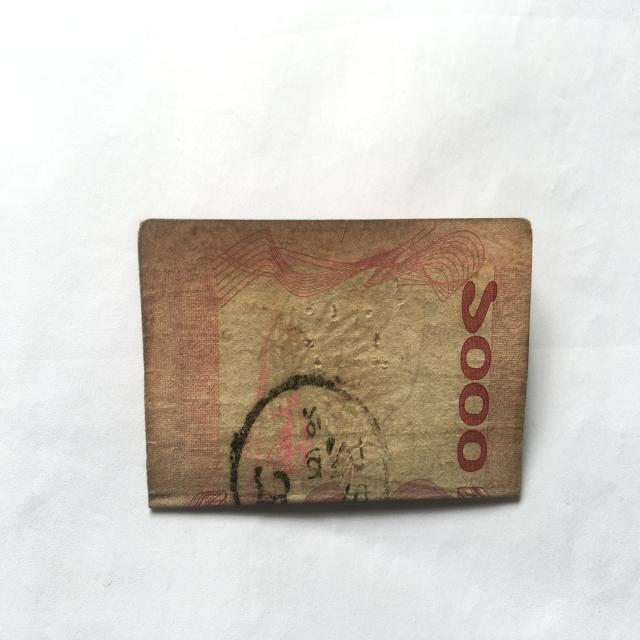Taka: (136, 209, 529, 507)
